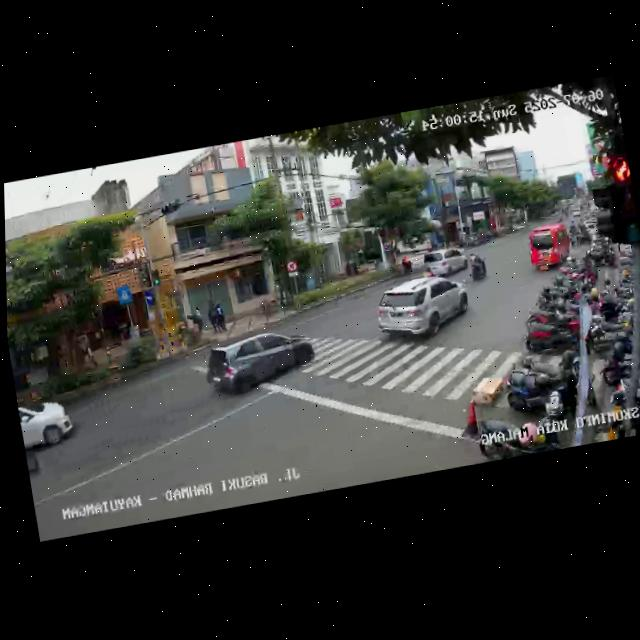car: (201, 322, 323, 403), (368, 269, 473, 348), (17, 387, 81, 466), (525, 221, 575, 275), (421, 244, 469, 280)
motorcycle: (465, 249, 490, 285)
person: (208, 302, 229, 336)
